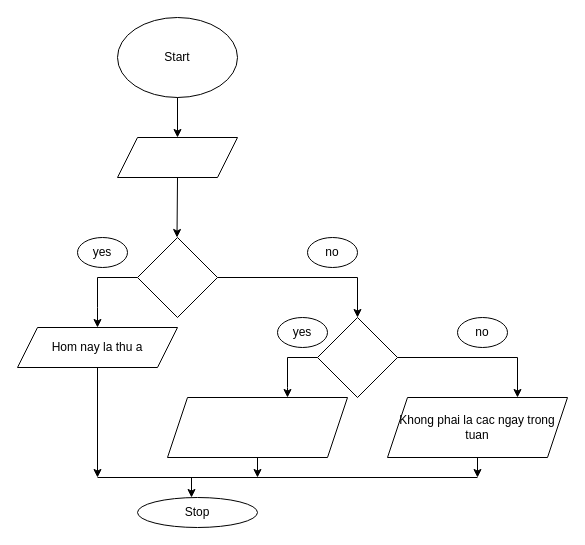
Some shapes in this 585 by 545 pixel diagram are drawn without their labels. Here are the shapes that lost their labels. From the top down, the centre of each, then its label:
the point at 177,157: input a
the point at 177,277: 2<=a<=7
the point at 357,357: a==8
the point at 257,427: Hom nay la chu nhat
